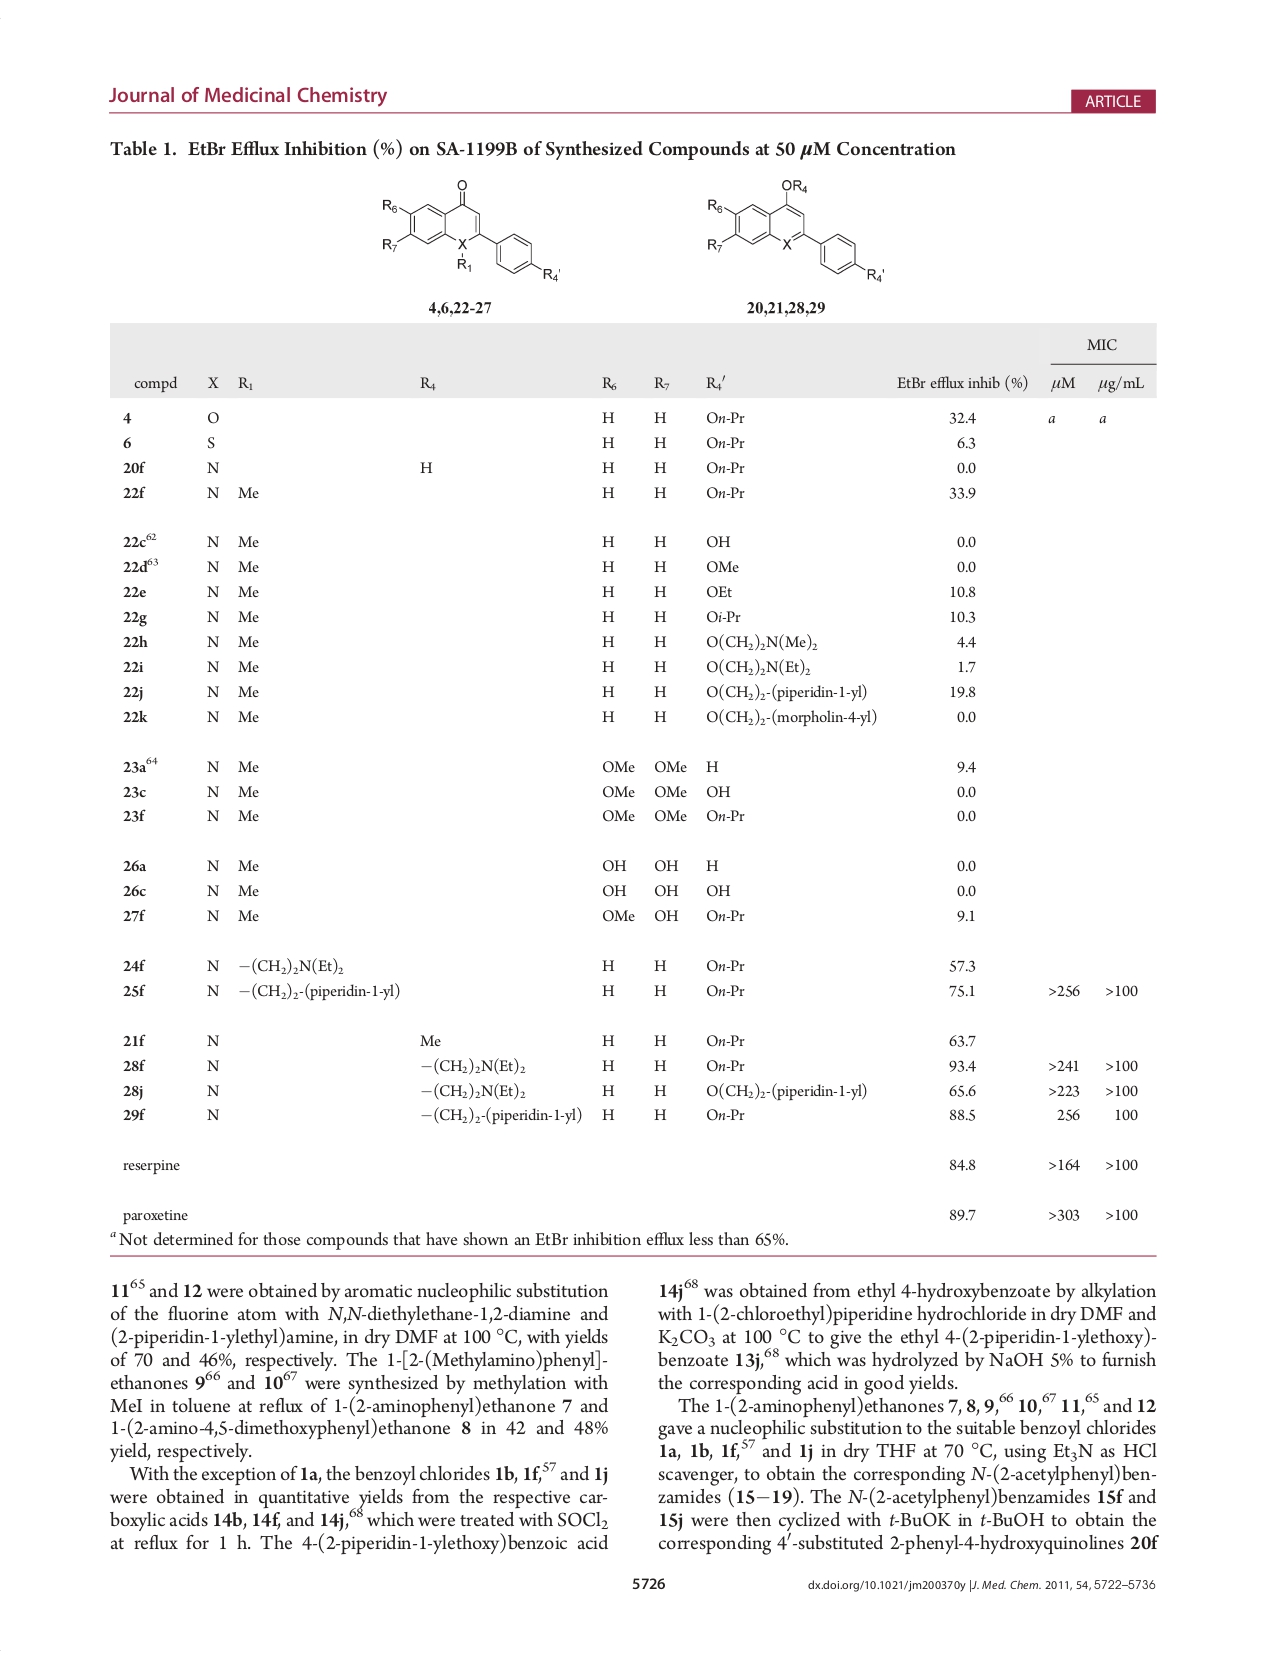exist_molecular: (703, 177, 884, 286), (378, 178, 563, 285)
